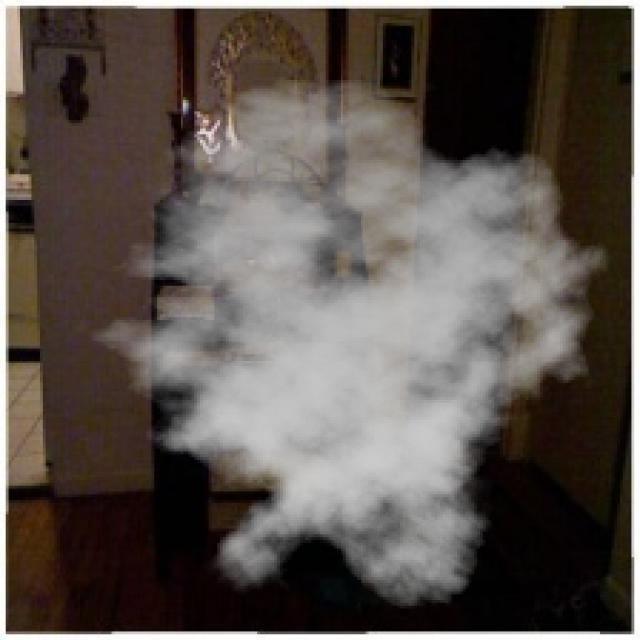Smoke: (66, 77, 623, 612)
